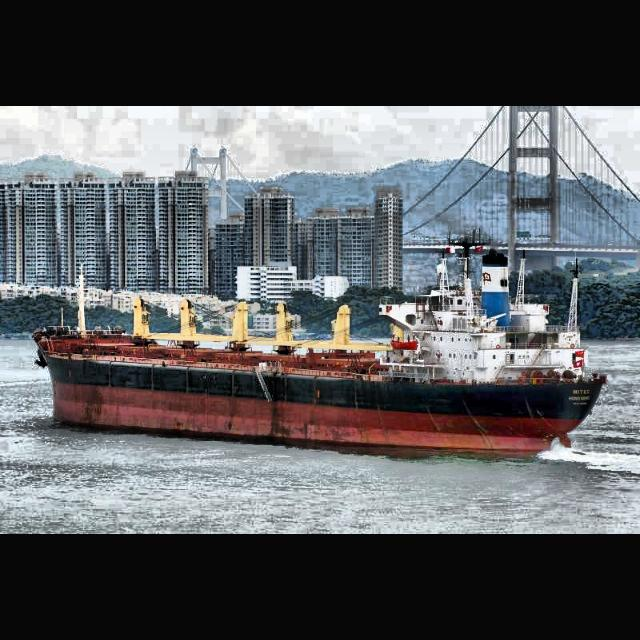bulk_carrier: (31, 227, 610, 461)
